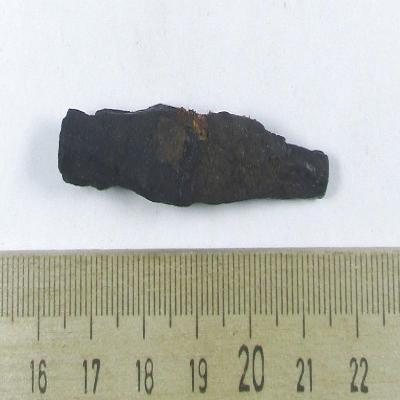archeology: (57, 105, 330, 208)
